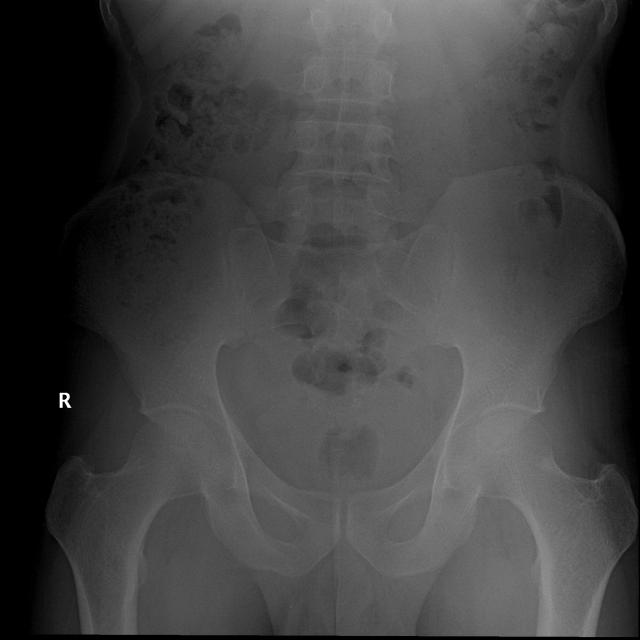normal-left: (459, 412, 639, 637)
normal-right: (45, 413, 221, 635)
